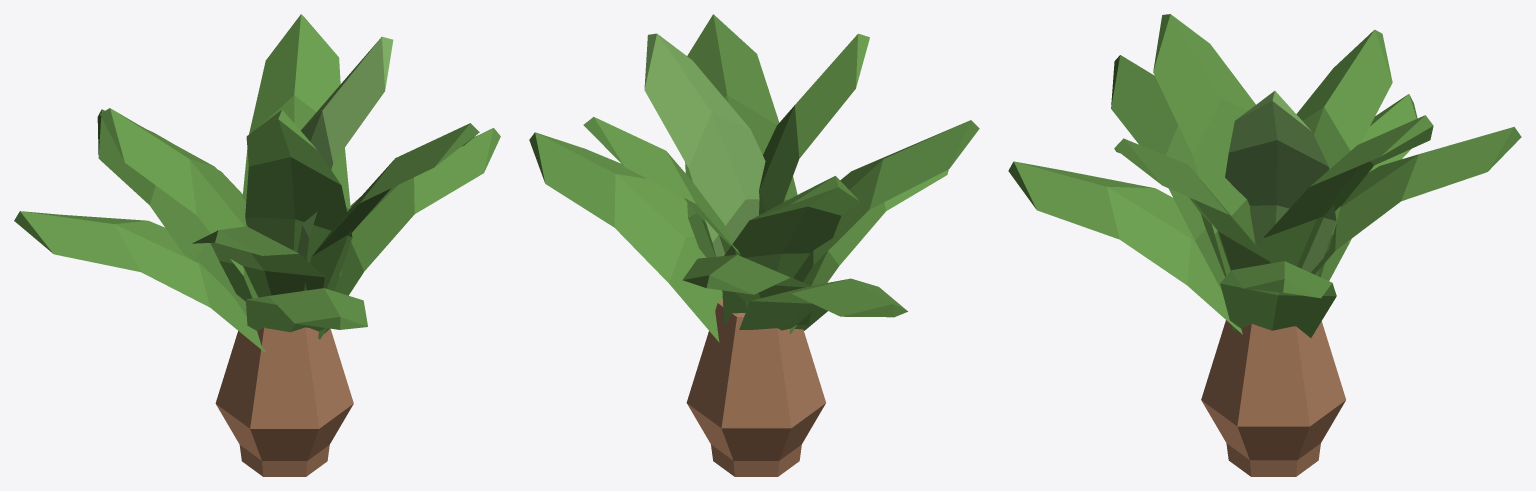
The model's file is palm1.fbx.
3 renders of one model, left to right at view 1: azimuth 30°, elevation 25°; view 2: azimuth 150°, elevation 25°; view 3: azimuth 270°, elevation 25°, orthographic. The views are drawn at different scales.
Parts seen in each view (by area): view 1: palm1; view 2: palm1; view 3: palm1.
Part boxes in pixels (x1,y1,x2,y2): palm1: [14, 14, 500, 476]; palm1: [529, 14, 979, 476]; palm1: [1008, 14, 1521, 476].
Size of the model in its own units: 313 by 282 by 312.
